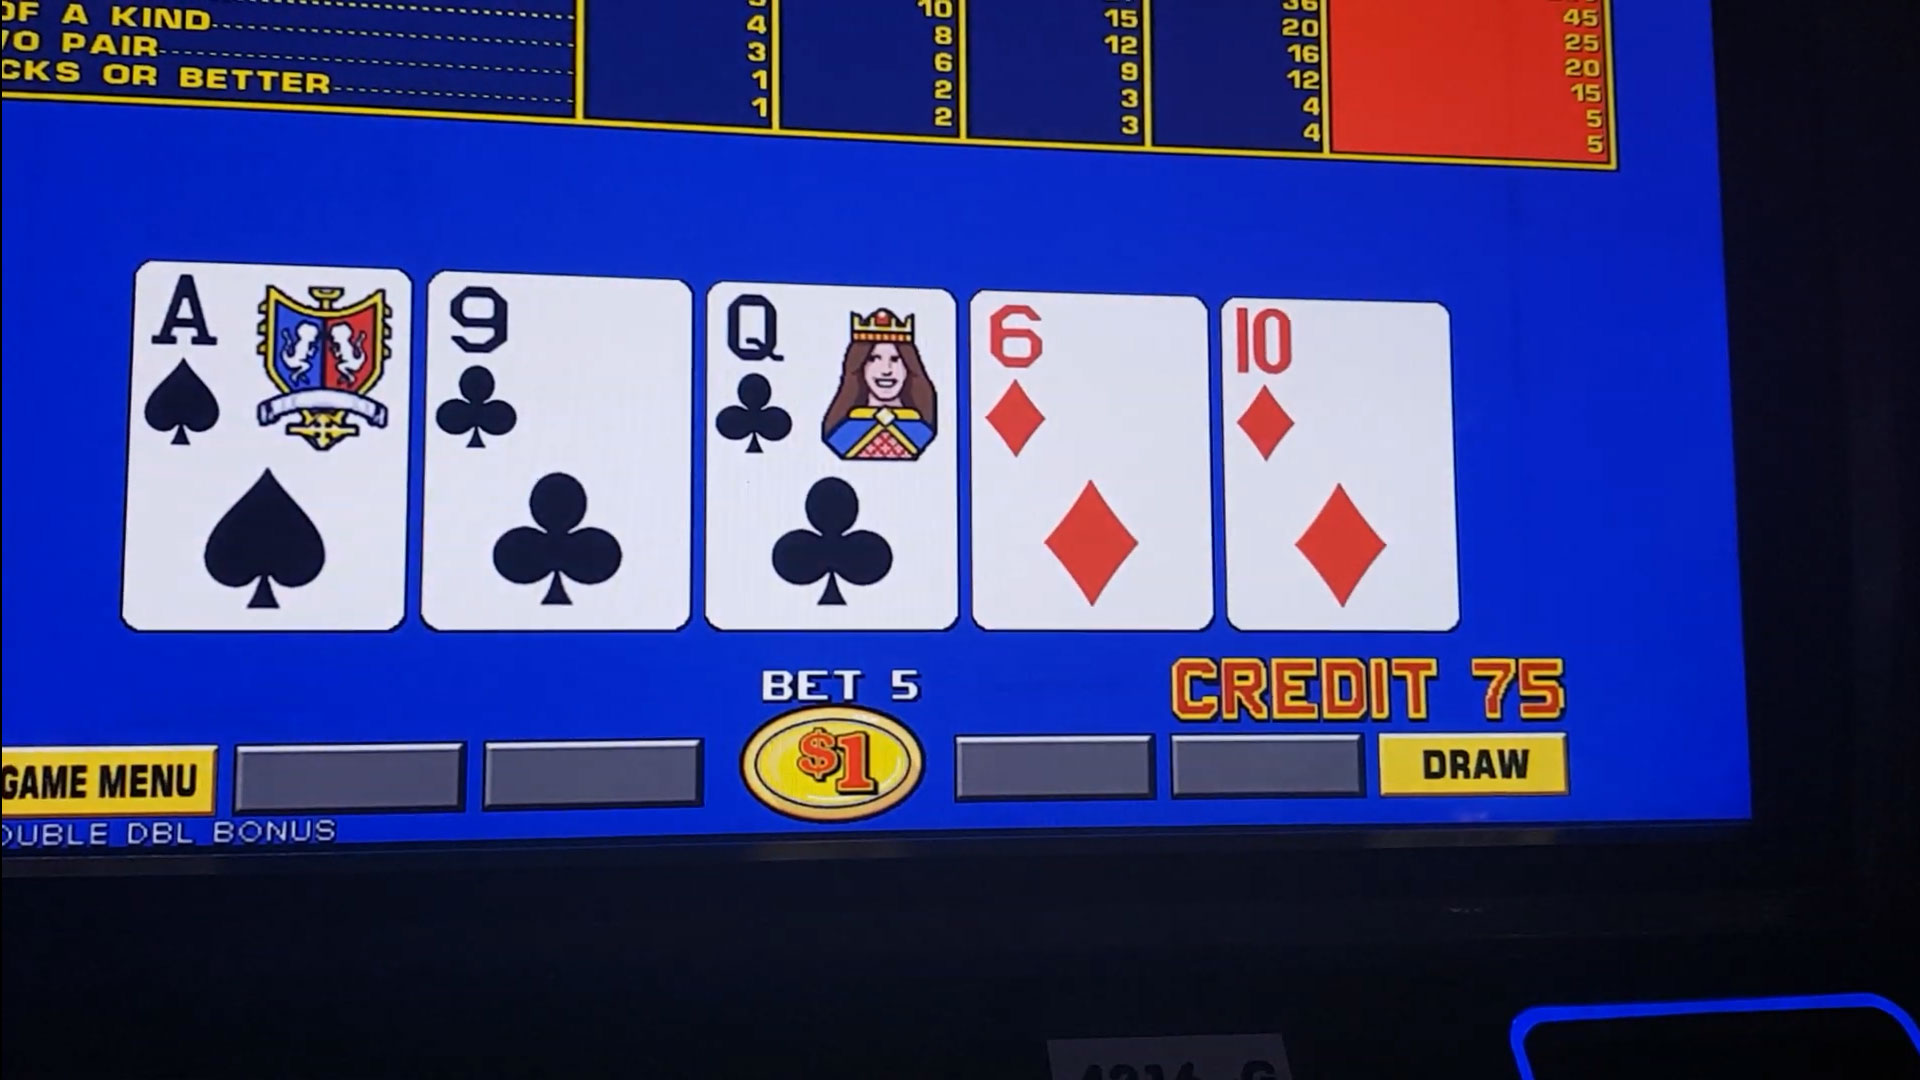C9: (436, 285, 687, 456)
CQ: (712, 297, 949, 467)
D6: (977, 305, 1207, 464)
DT: (1232, 301, 1444, 471)
SA: (141, 276, 404, 452)
